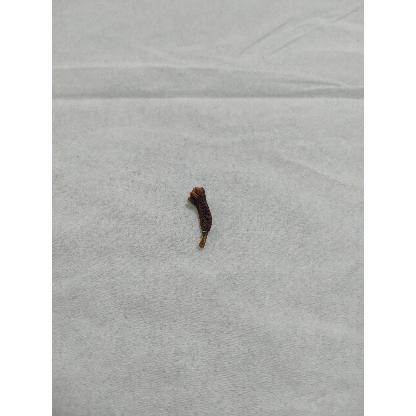sedang: (188, 186, 213, 232)
